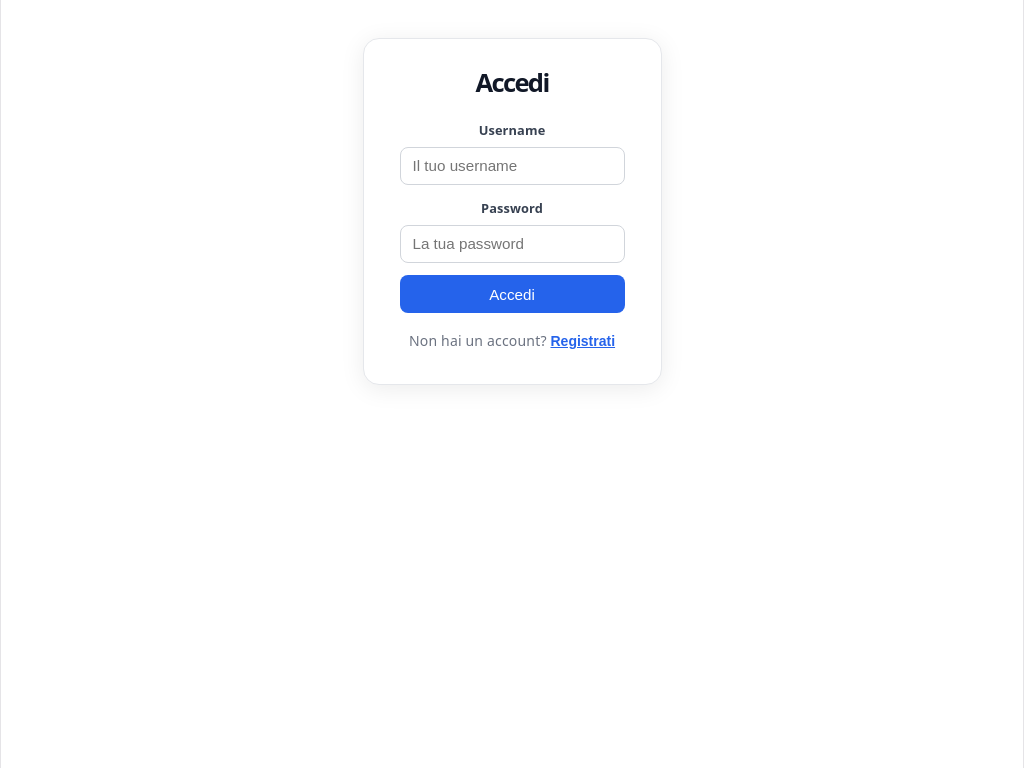
Test: login flow › shows the server error message on failed login
In the field labelled "Username": x=512, y=166 [400,147,624,185], type "mario"
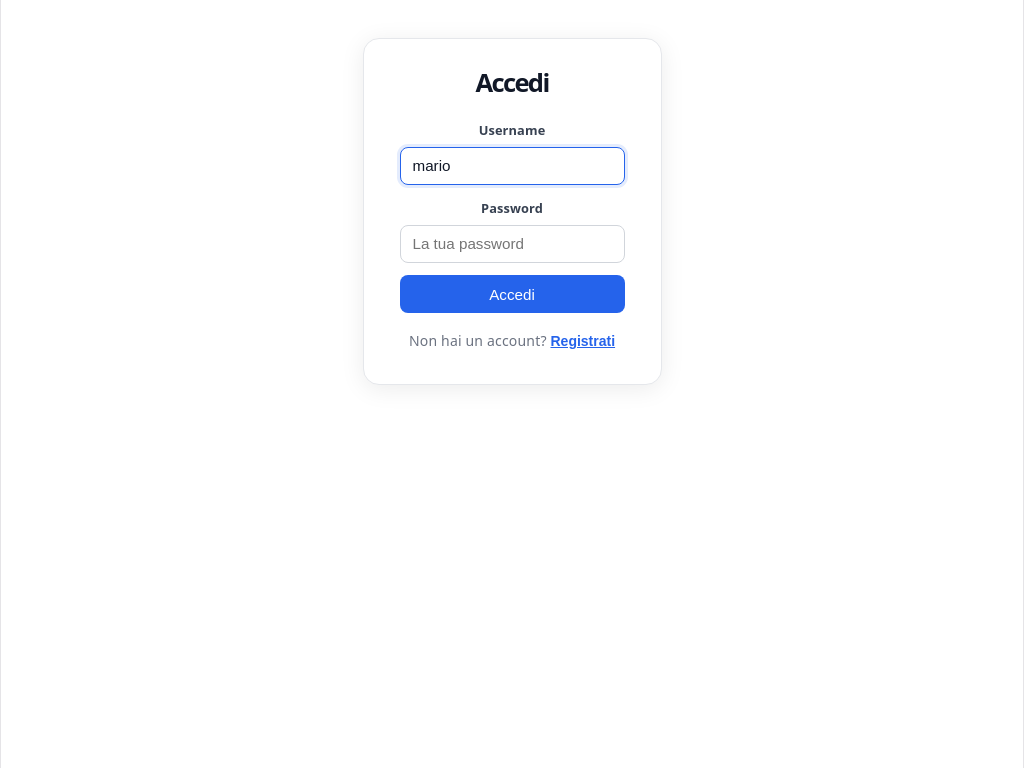
In the password field labelled "Password": x=512, y=244 [400,225,624,263], type "wrong"
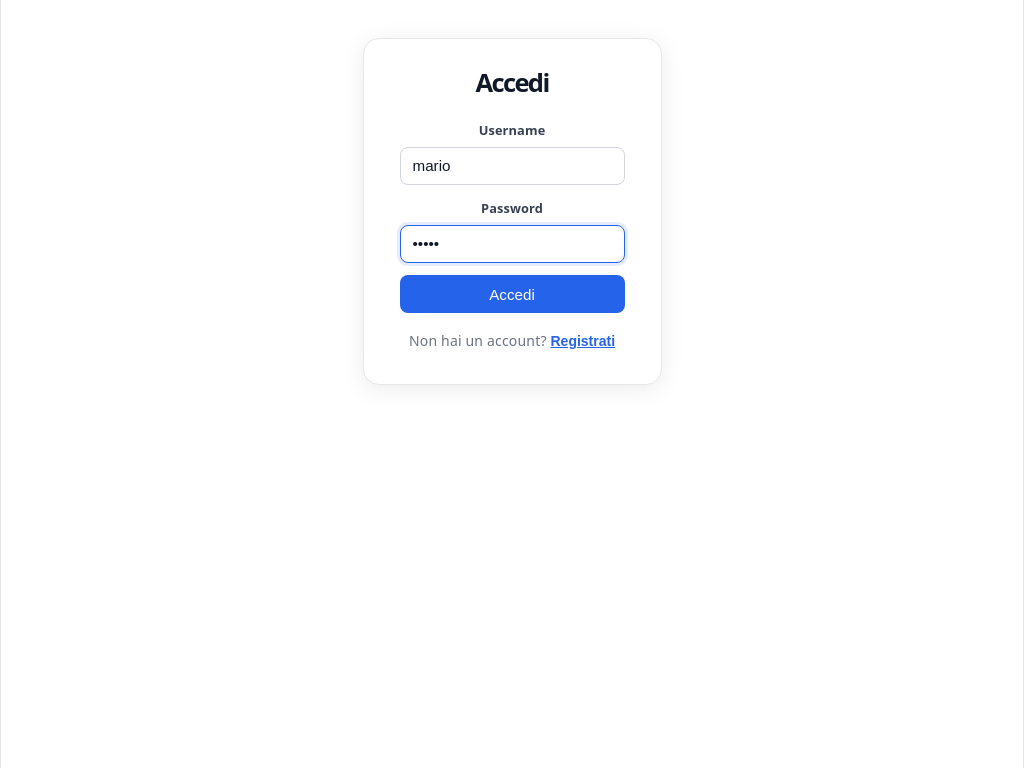
Click the button "Accedi": x=512, y=294 [400,275,624,313]
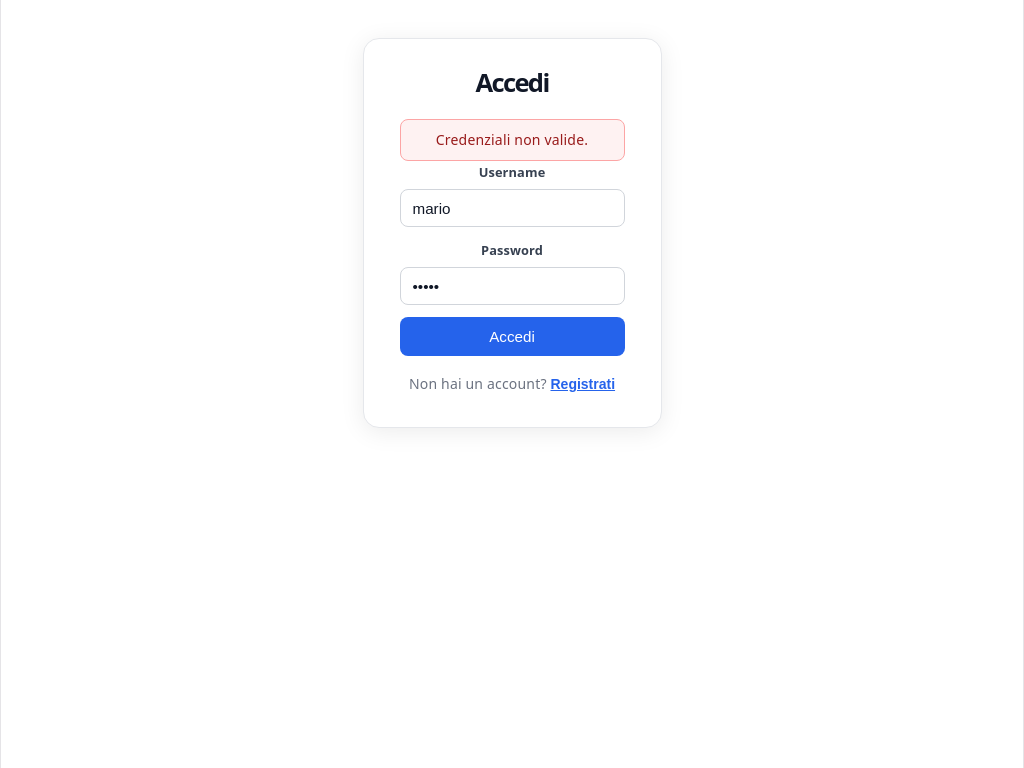
expect the text "Credenziali non valide." is shown: met, box [400,119,624,161]
